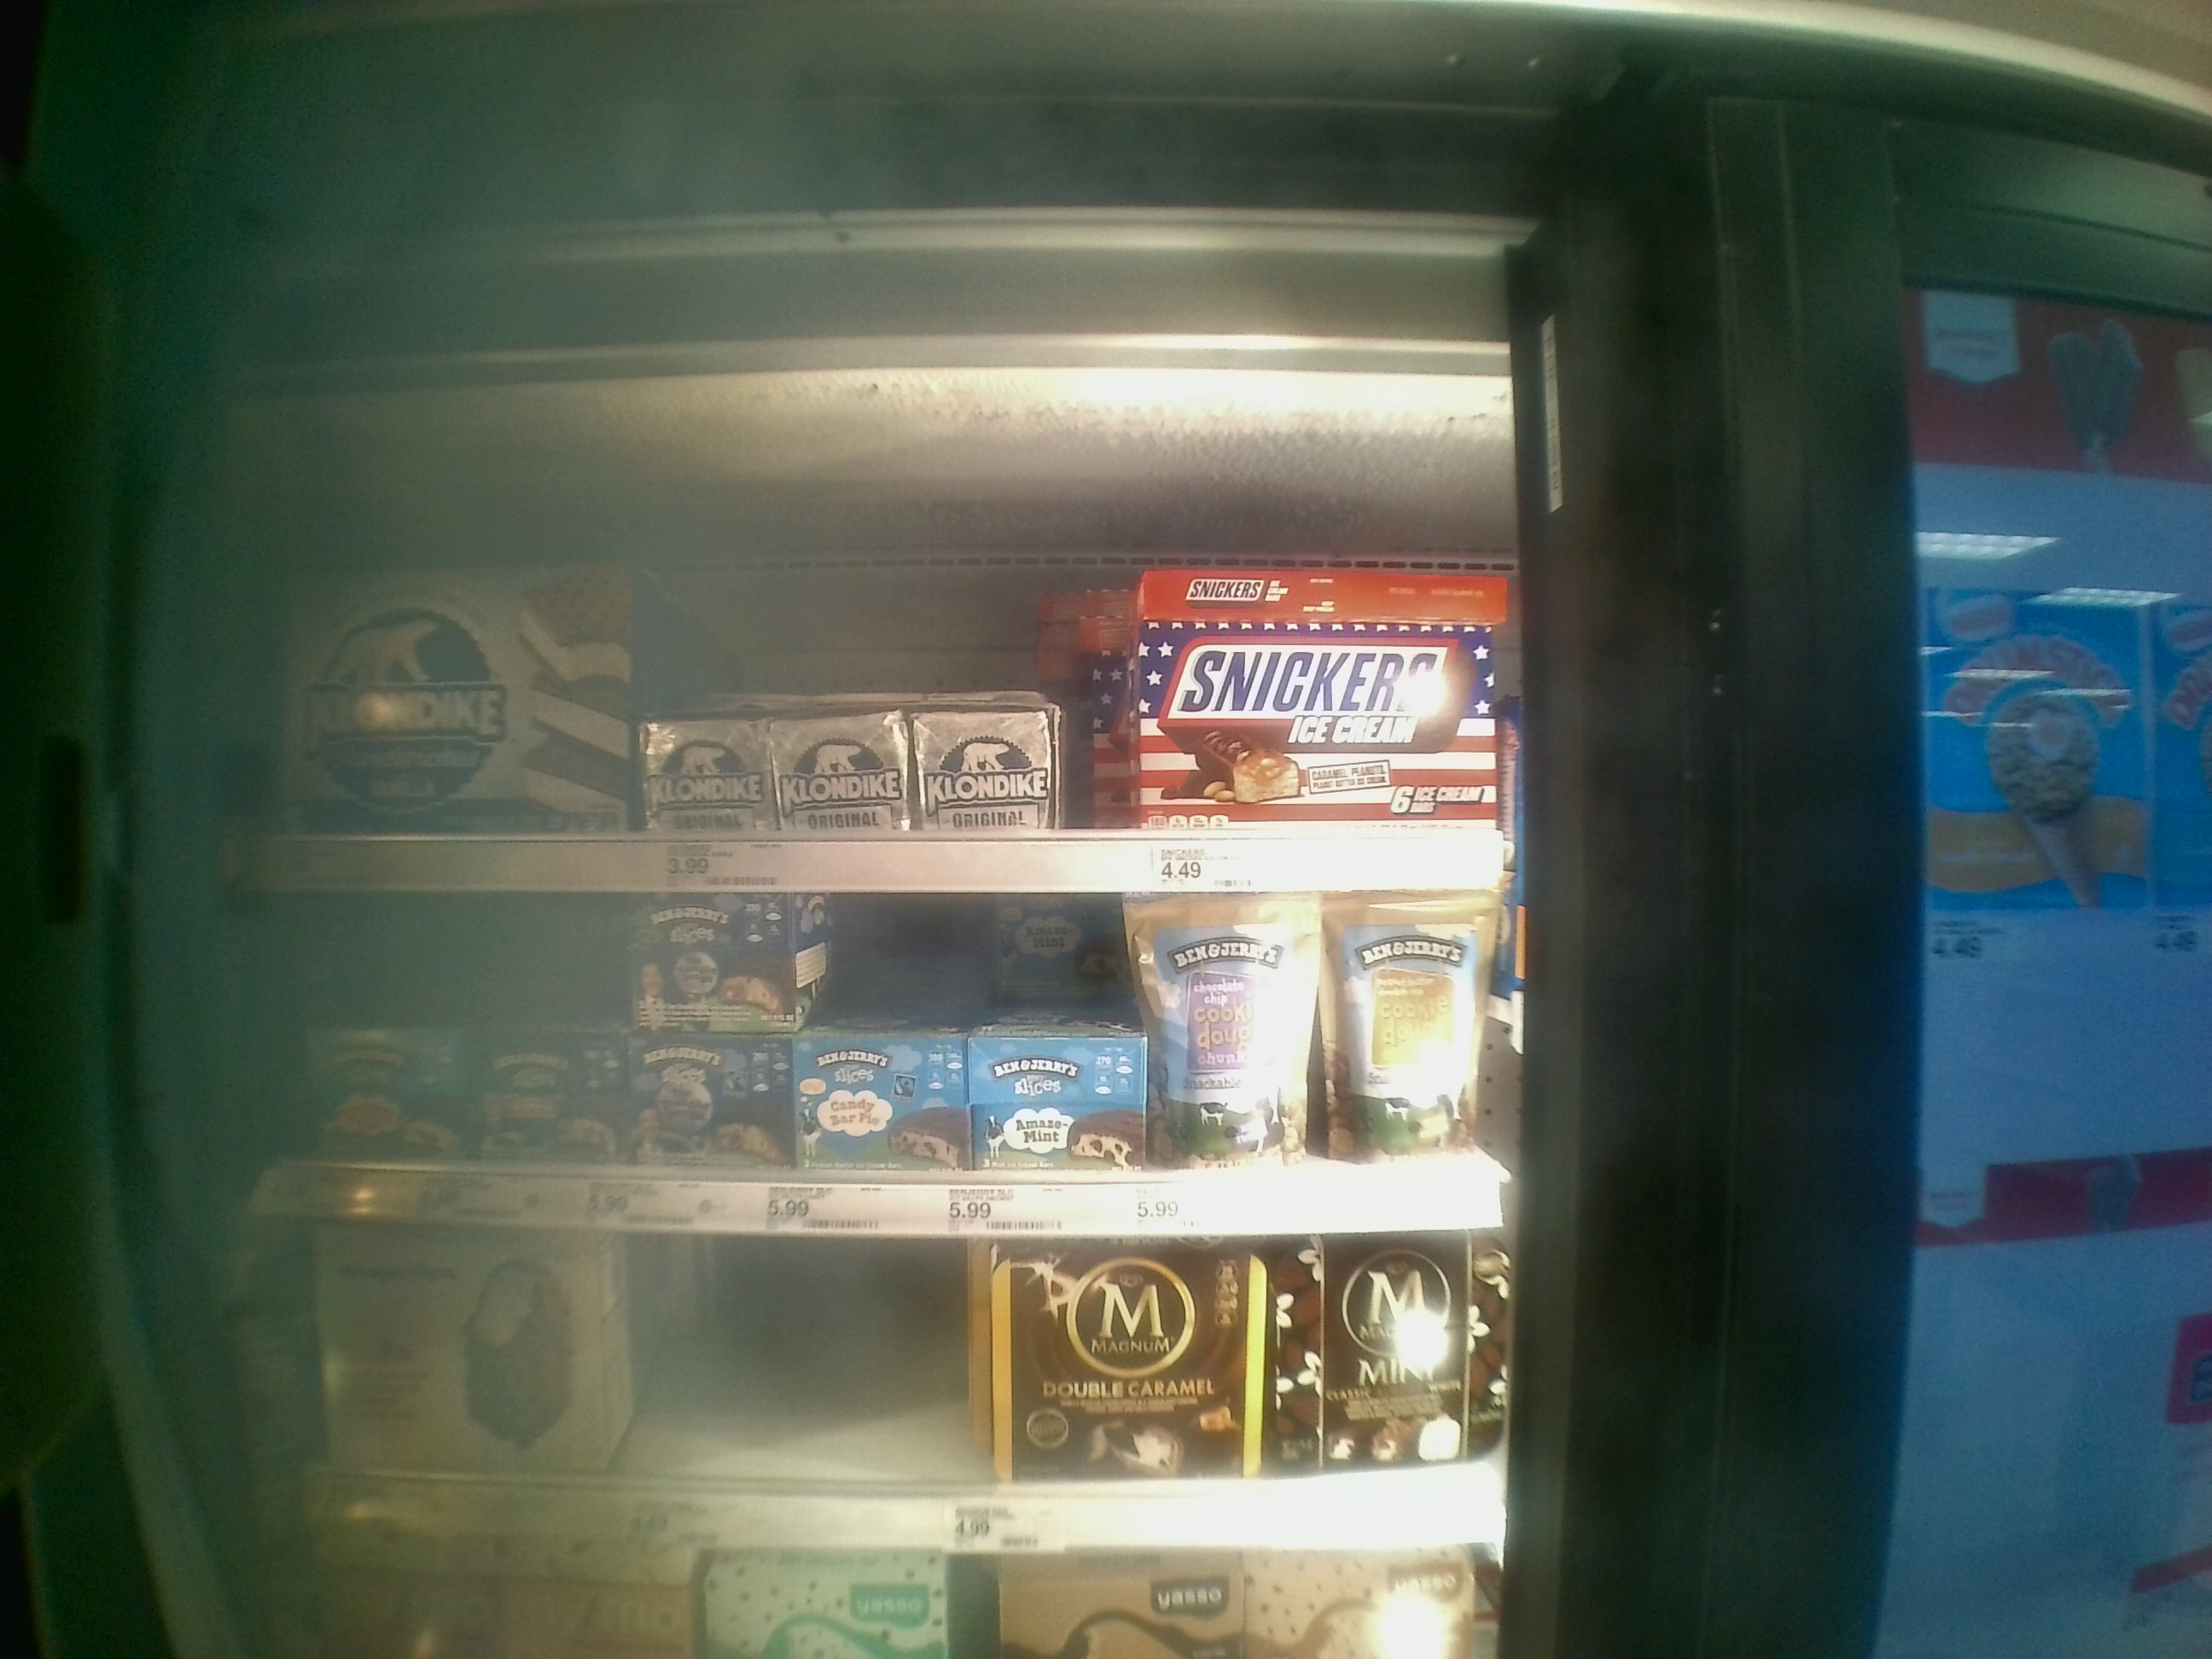ice-cream-shelf: (230, 413, 1529, 892), (225, 892, 1533, 1230), (228, 1236, 1529, 1549)
